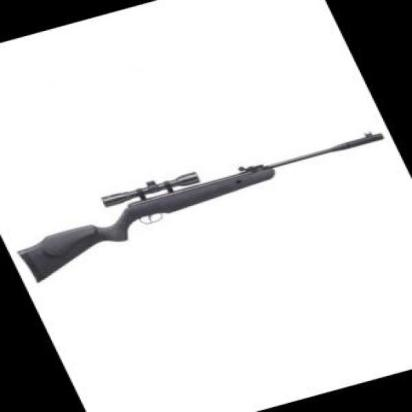Gun: (0, 129, 389, 270)
